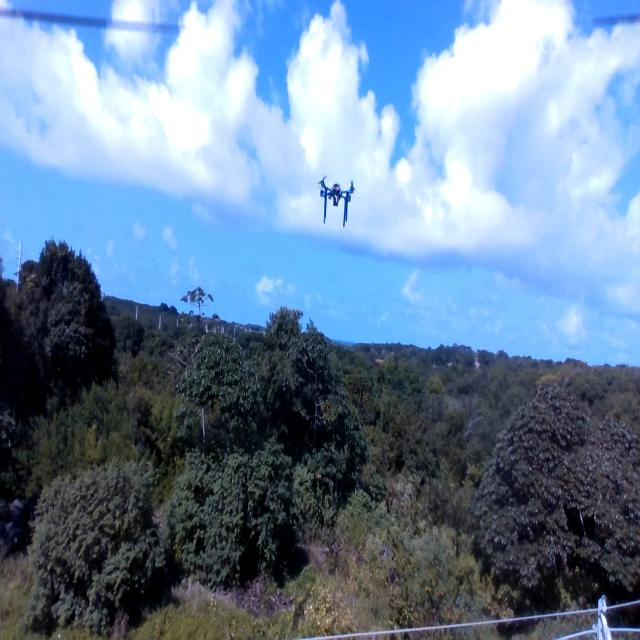-uav-: (312, 165, 364, 225)
